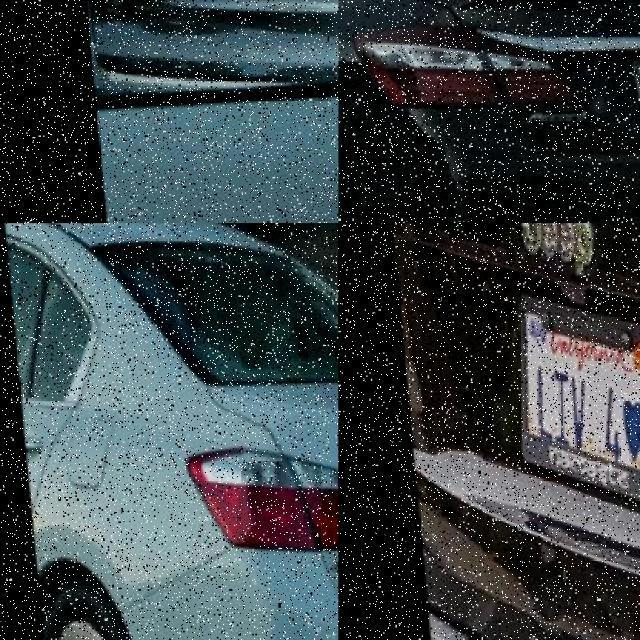LicensePlate: (503, 297, 640, 499), (219, 0, 338, 52)
